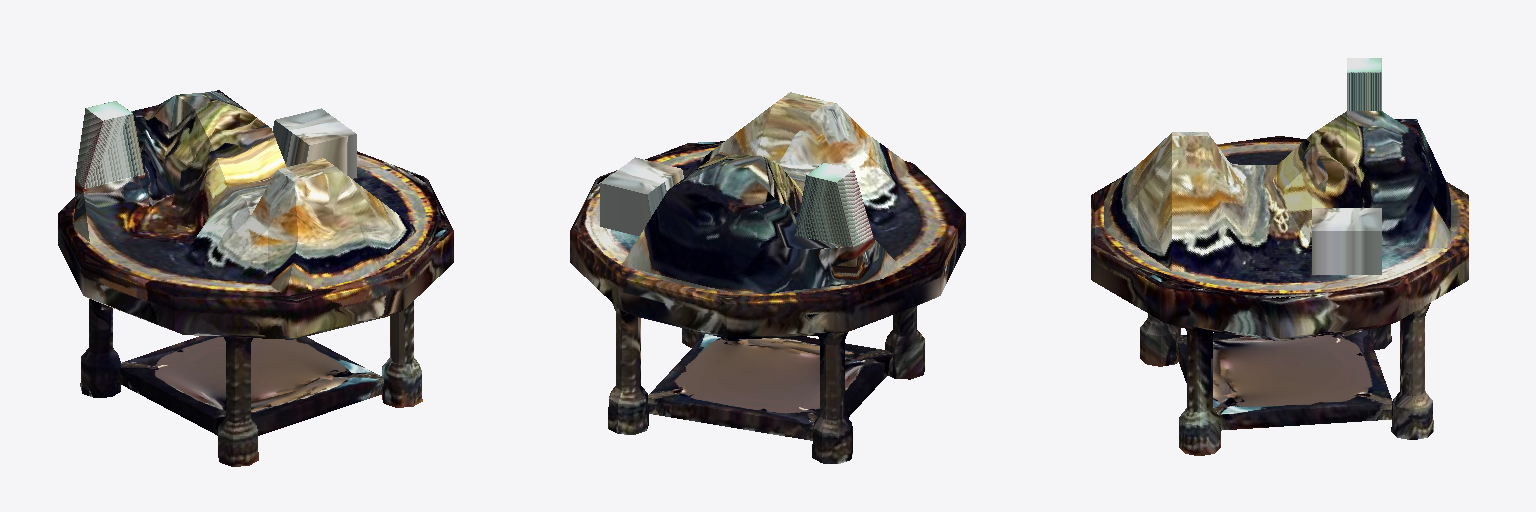
The picture shows the model from 3 angles: view 1: azimuth 30°, elevation 25°; view 2: azimuth 150°, elevation 25°; view 3: azimuth 270°, elevation 25°; orthographic projection.
Visible parts, largest first — view 1: LivingRoom_GEO_GRP_LivingRoom_Round_Table; view 2: LivingRoom_GEO_GRP_LivingRoom_Round_Table; view 3: LivingRoom_GEO_GRP_LivingRoom_Round_Table.
Part boxes in pixels (x1,y1,x2,y2): LivingRoom_GEO_GRP_LivingRoom_Round_Table: (58, 90, 453, 466); LivingRoom_GEO_GRP_LivingRoom_Round_Table: (570, 92, 965, 463); LivingRoom_GEO_GRP_LivingRoom_Round_Table: (1091, 58, 1468, 455).
Size of the model in its own units: 1.14 by 0.8836 by 1.08.
1 materials, 1 textured.